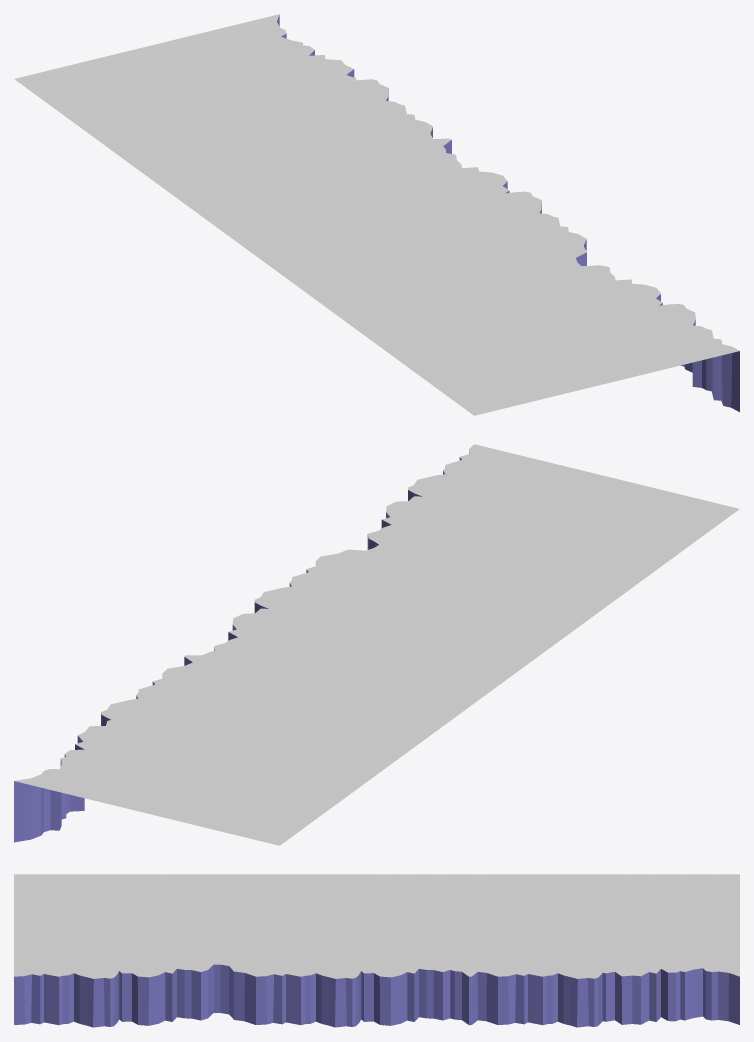
The model's file is ADS 3.fbx.
The picture shows the model from 3 angles, top to bottom: view 1: azimuth 30°, elevation 25°; view 2: azimuth 150°, elevation 25°; view 3: azimuth 270°, elevation 25°; orthographic projection. The views are drawn at different scales.
Visible parts, largest first — view 1: Plane.001; view 2: Plane.001; view 3: Plane.001.
Part boxes in pixels (<box>): Plane.001: <box>14,14,739,415</box>; Plane.001: <box>14,444,739,845</box>; Plane.001: <box>14,874,739,1027</box>.
Bounding box in the file's own units: 205 × 44.28 × 600.
